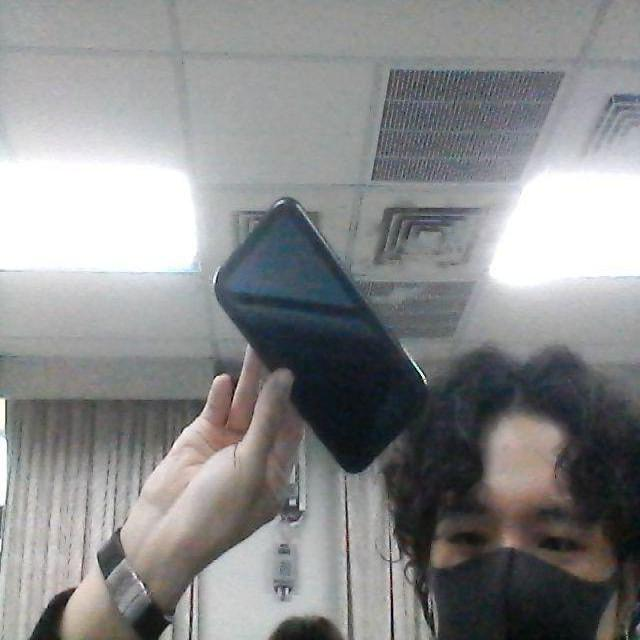mobile: (203, 183, 435, 487)
